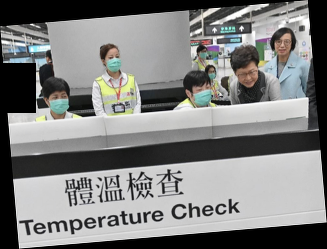with_mask: (48, 92, 71, 115), (193, 81, 214, 106), (105, 53, 122, 72), (207, 69, 218, 80), (199, 48, 209, 59)
without_mask: (238, 67, 260, 88), (274, 36, 294, 54)
